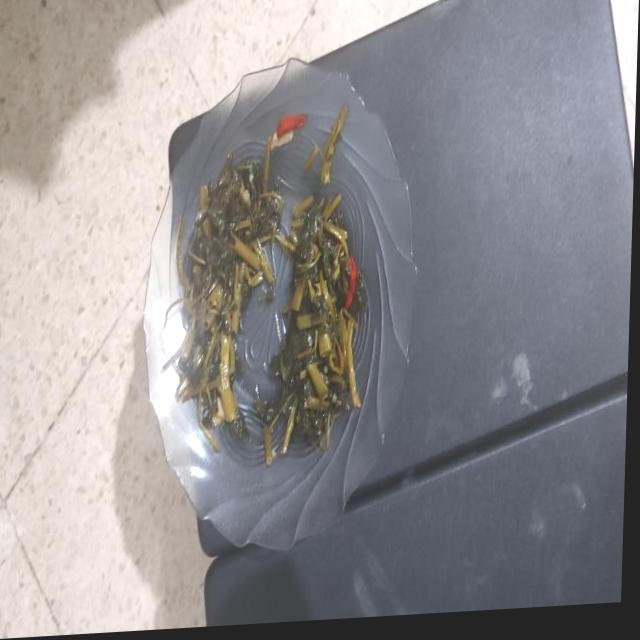tumis_kangkung: (176, 144, 286, 426), (272, 196, 362, 454)
